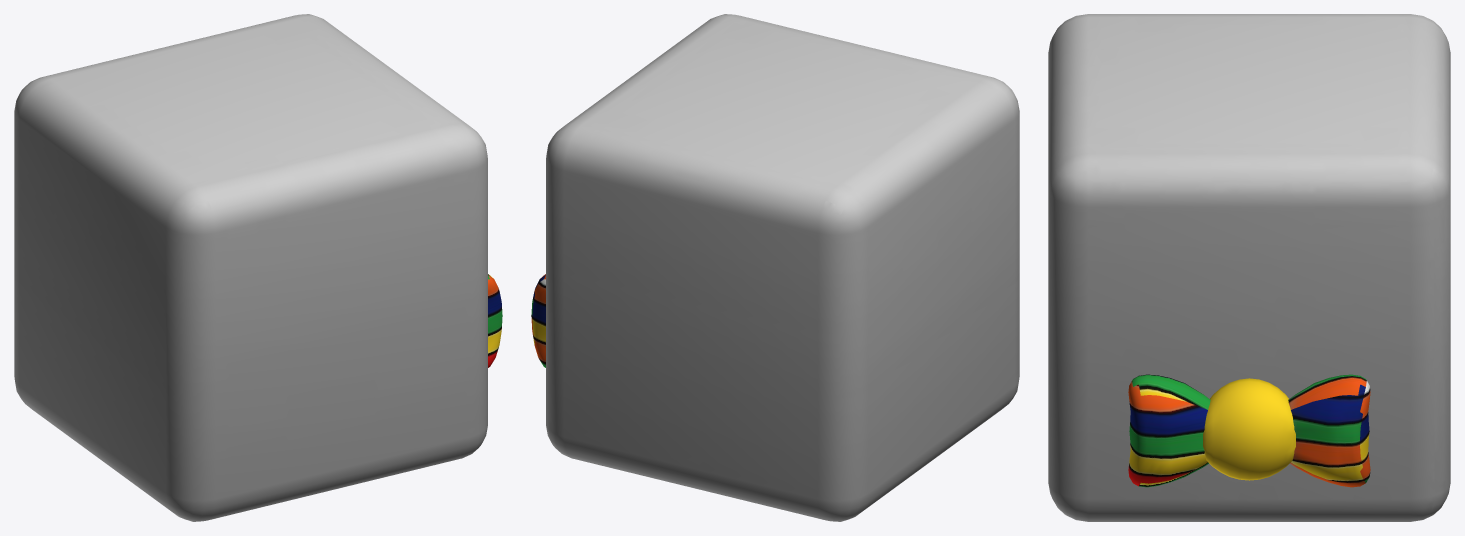
Rendered from cube_bowtie1.glb.
The picture shows the model from 3 angles, left to right: view 1: azimuth 30°, elevation 25°; view 2: azimuth 150°, elevation 25°; view 3: azimuth 270°, elevation 25°; orthographic projection. The views are drawn at different scales.
Parts seen in each view (by area): view 1: cube_bowtie1; view 2: cube_bowtie1; view 3: cube_bowtie1.
Part boxes in pixels (x1,y1,x2,y2): cube_bowtie1: (14, 14, 502, 521); cube_bowtie1: (531, 14, 1019, 521); cube_bowtie1: (1048, 14, 1450, 521).
Bounding box in the file's own units: 2.32 × 2 × 2.
Materials: 2 (2 with a texture image).
